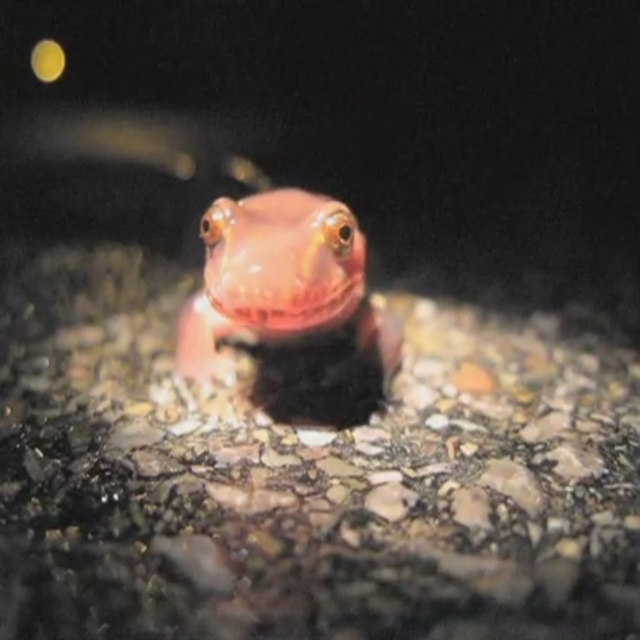Frog: (154, 180, 400, 427)
